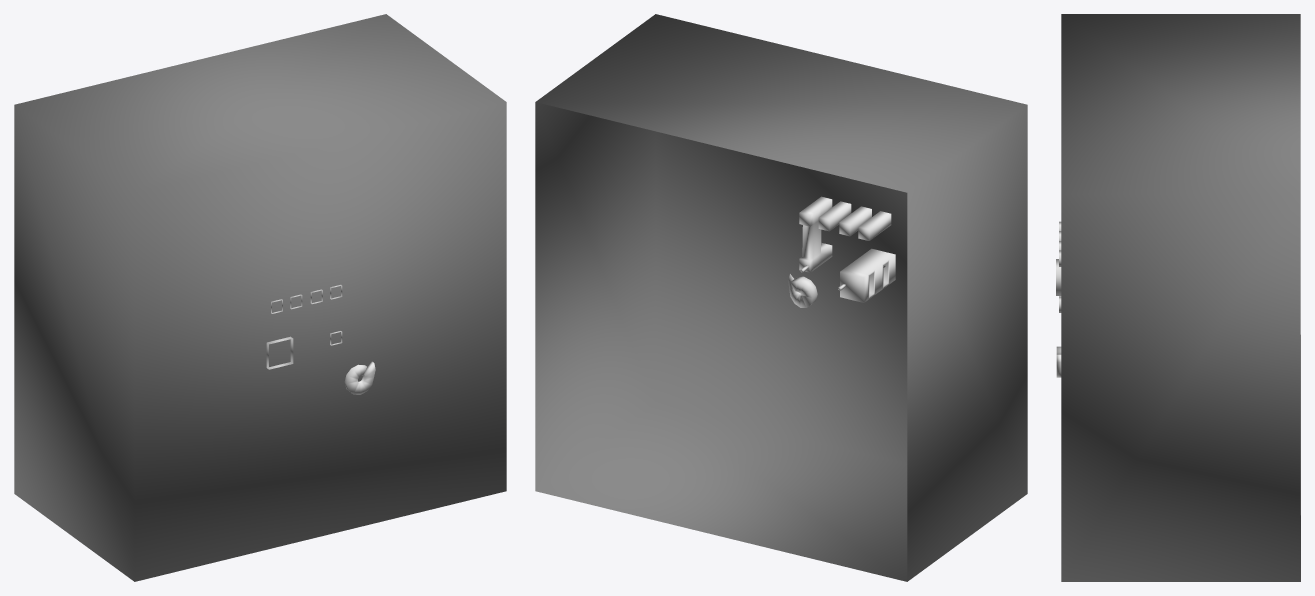
Rendered from Stage.fbx.
3 renders of one model, left to right at view 1: azimuth 30°, elevation 25°; view 2: azimuth 150°, elevation 25°; view 3: azimuth 270°, elevation 25°, orthographic.
Parts seen in each view (by area): view 1: Stage; view 2: Stage; view 3: Stage.
Part boxes in pixels (x1=…): Stage: x1=14, y1=14, x2=506, y2=581; Stage: x1=535, y1=14, x2=1027, y2=581; Stage: x1=1056, y1=14, x2=1300, y2=581.
Size of the model in its own units: 529 by 529 by 303.
